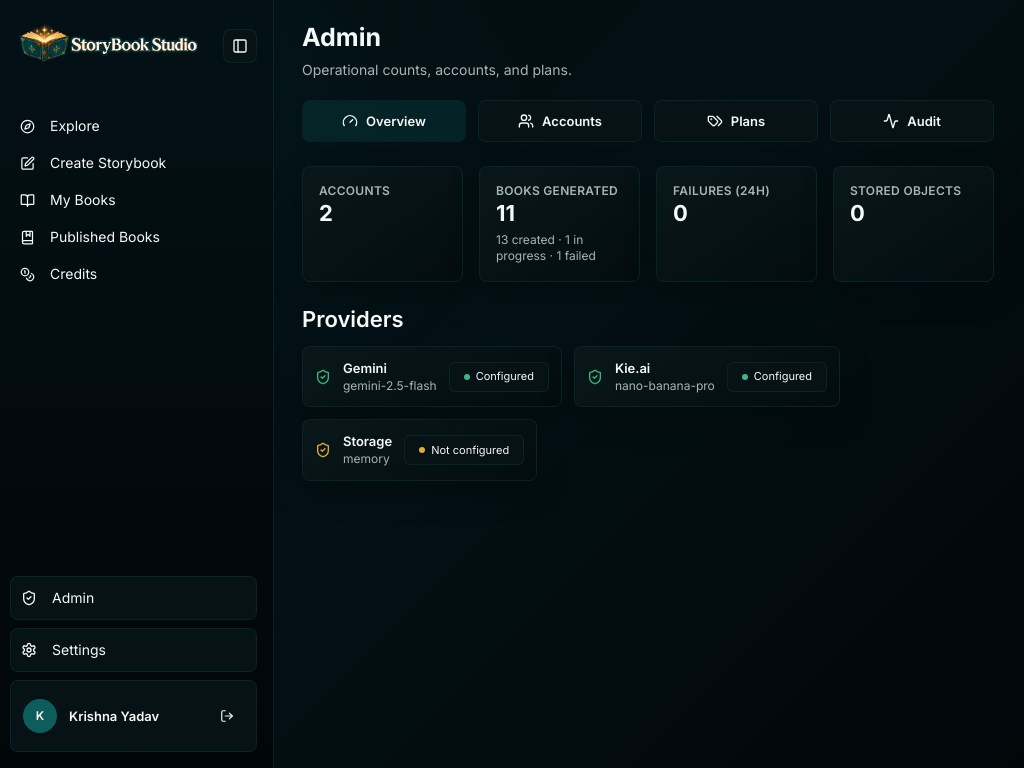
Test: the plans tab › says which plans readers can see and which are still drafts
Click the tab "Plans" at (736, 121), box [654,100,818,142]
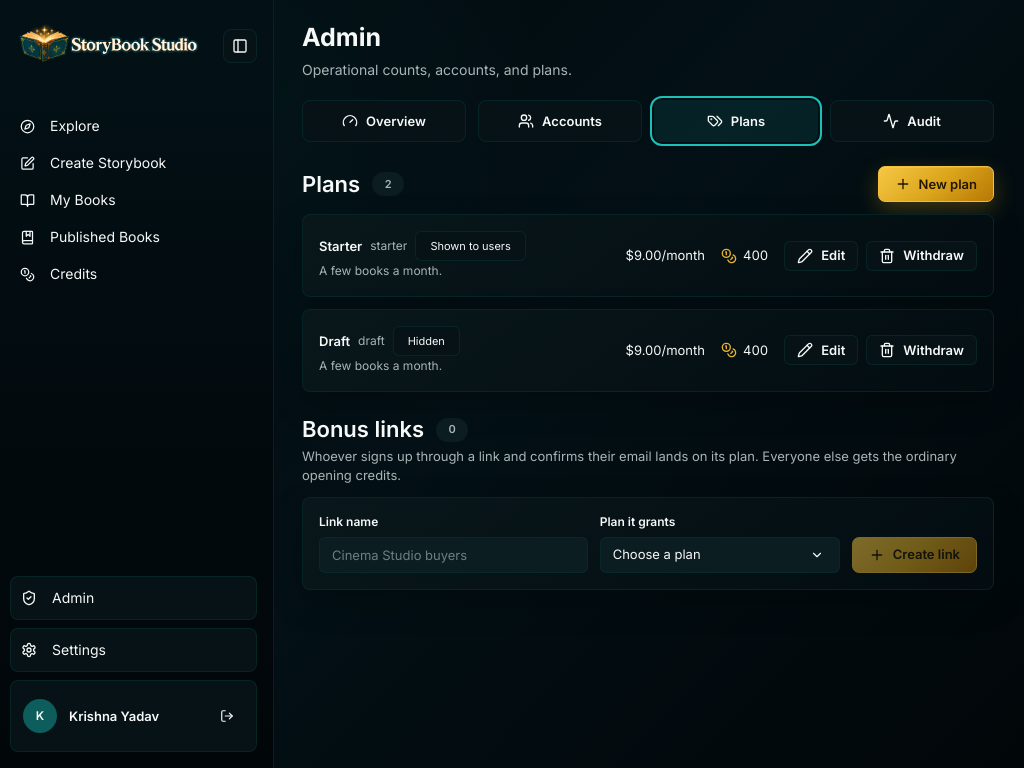
Expected: the text "Starter" is shown, [319,237,362,256]
Expected: the text "Shown to users" is shown, [415,231,526,261]
Expected: the text "Hidden" is shown, [393,326,460,356]
